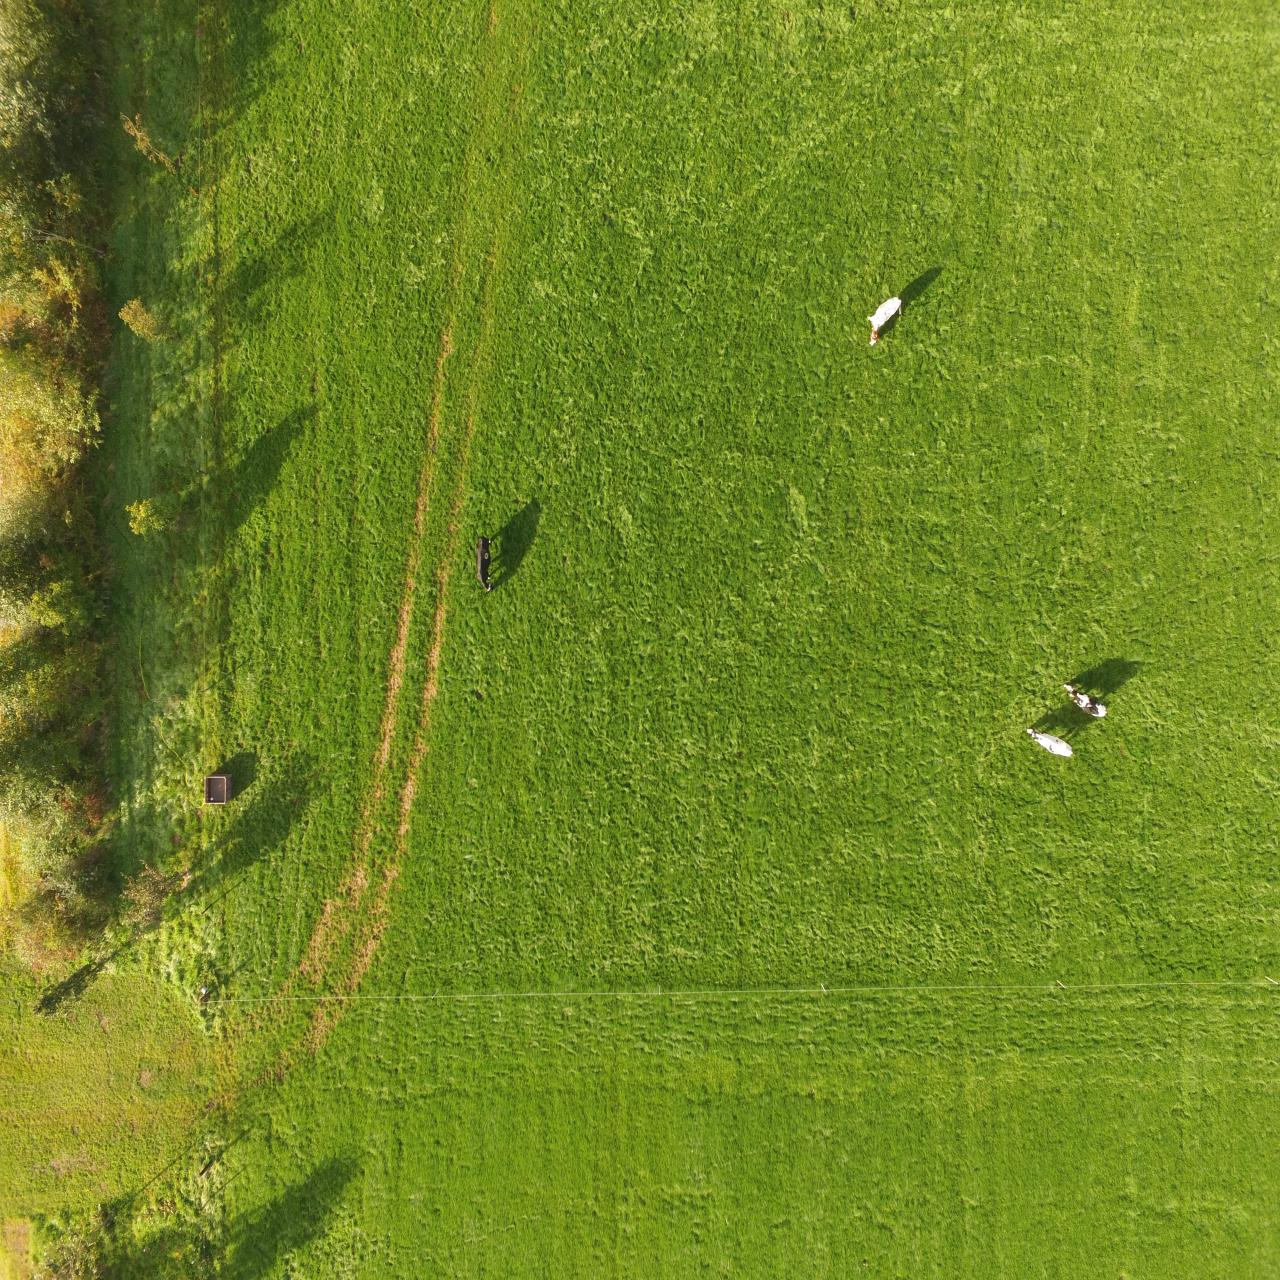cow: (865, 293, 903, 348), (1062, 681, 1108, 720), (1024, 726, 1077, 758), (475, 535, 496, 592)
